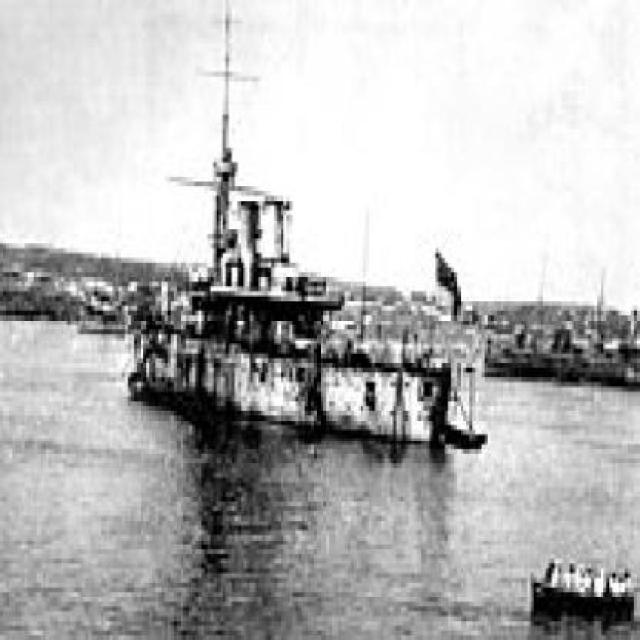warship2: (122, 1, 501, 459)
